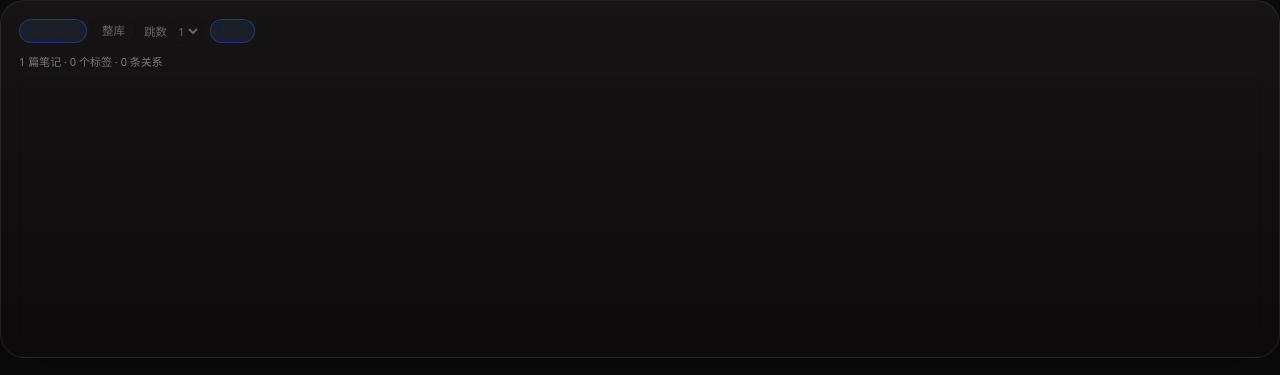
Test: NotesGraphPanel › disables the depth control outside local scope, where it means nothing
Expected: the dropdown labelled "跳数" is enabled, left=173, top=19, right=202, bottom=43
Click the button "整库".
click(114, 31)  # box left=91, top=19, right=136, bottom=43
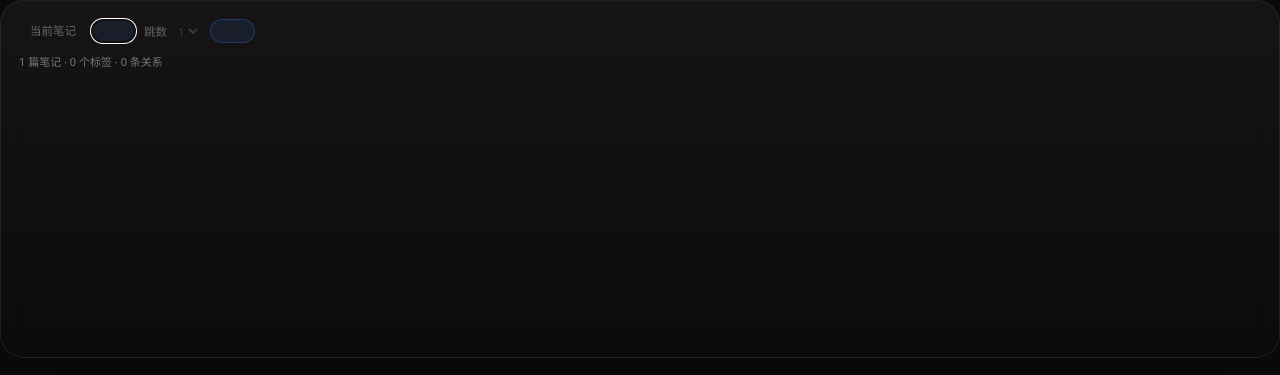
Now the dropdown labelled "跳数" is disabled, box left=173, top=19, right=202, bottom=43
